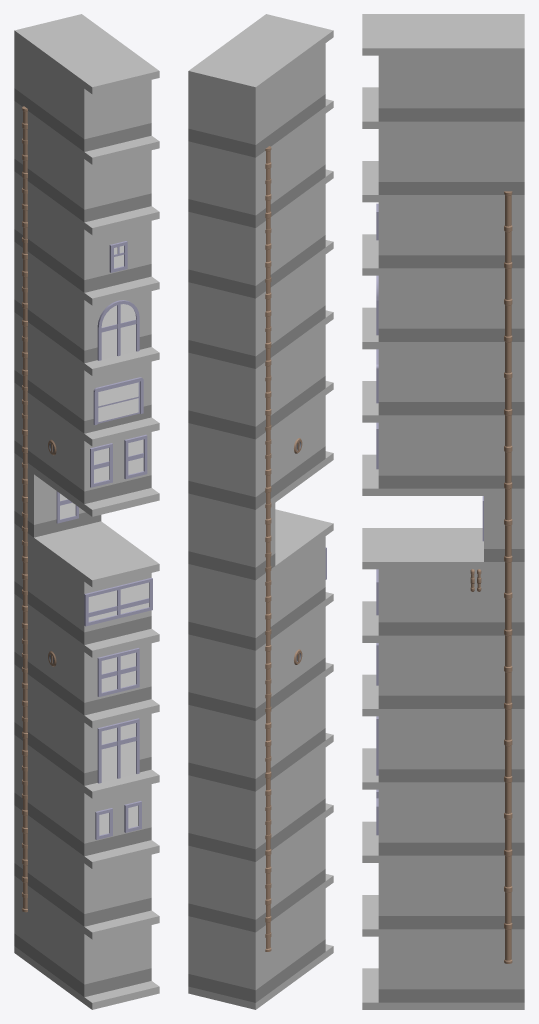
Rendered from pipe.fbx.
3 renders of one model, left to right at view 1: azimuth 30°, elevation 25°; view 2: azimuth 150°, elevation 25°; view 3: azimuth 270°, elevation 25°, orthographic. The views are drawn at different scales.
Visible parts, largest first — view 1: FDPipe; view 2: FDPipe; view 3: FDPipe.
Part boxes in pixels (left/top/right/bottom): FDPipe: left=14, top=14, right=159, bottom=1009; FDPipe: left=188, top=14, right=333, bottom=1009; FDPipe: left=362, top=14, right=524, bottom=1009.
Bounding box in the file's own units: 110 × 1310 × 200.
